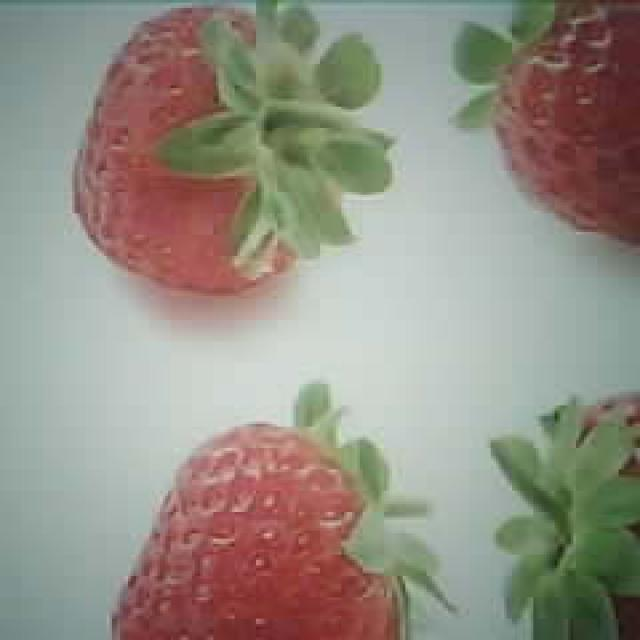ripe: (70, 4, 389, 295), (114, 397, 421, 640)
